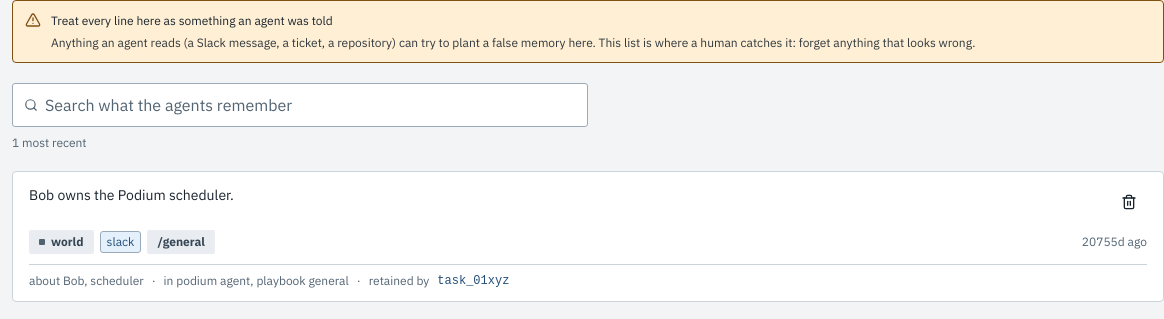
Scenario: MemoryPanel › searches instead of listing once something is typed
Expected: the list item with test id "memory-row" is shown, top-left (12, 171), bottom-right (1163, 302)
Type "who owns the scheduler" into the search field with test id "memory-search".
click(300, 105); type("who owns the scheduler")  # box top-left (12, 83), bottom-right (588, 127)
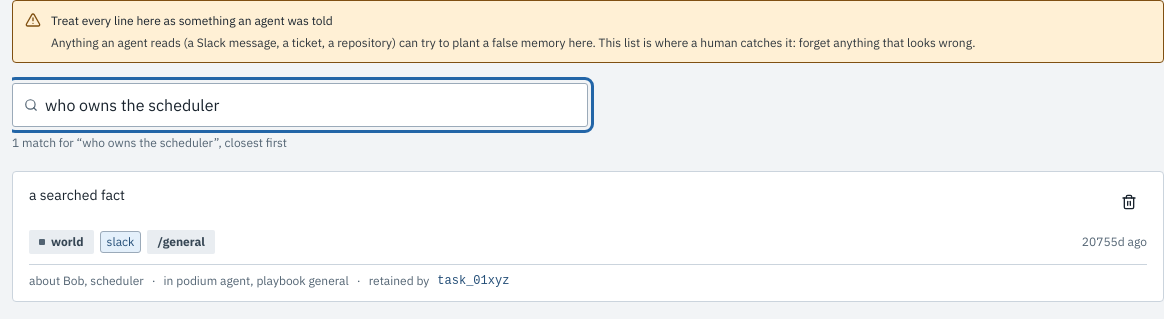
Expected: the text "can try to plant a false memory" is shown, top-left (51, 34), bottom-right (975, 50)
Expected: the text "a searched fact" is shown, top-left (29, 186), bottom-right (125, 204)
